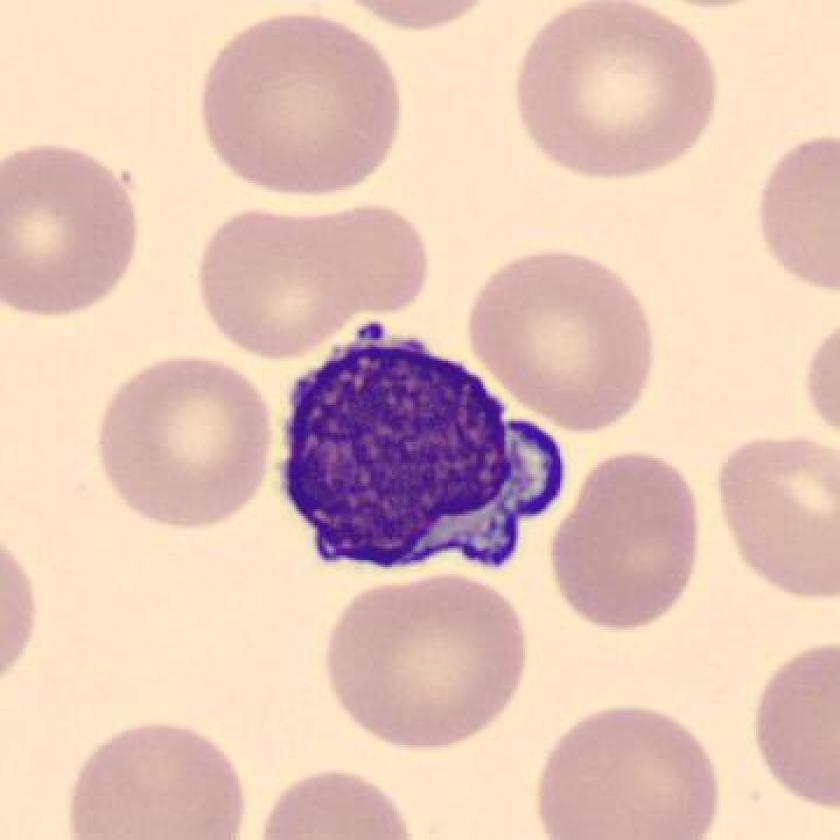lymphocyte: (263, 306, 578, 598)
